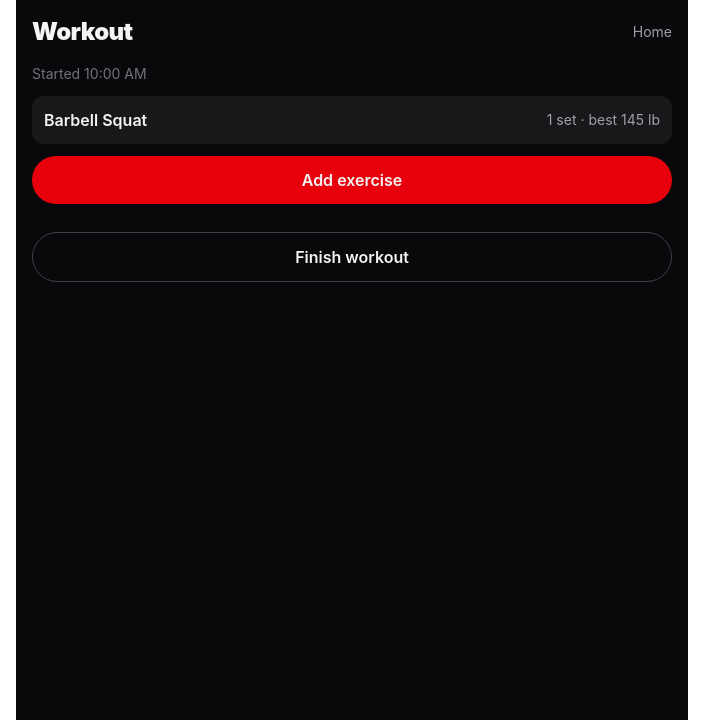
Test case: WorkoutPage › prefills from today's last set rather than the ghost row
Click the button "Barbell Squat 1 set · best 145 lb": (96, 120) [32,96,672,144]
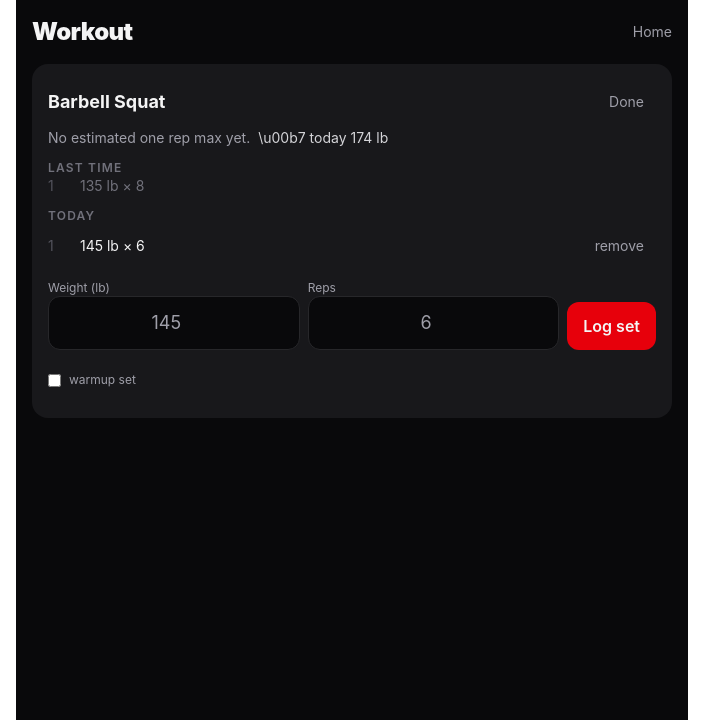
Check: the number field labelled "Weight (lb)" holds "145", box [48,296,300,350]
Check: the number field labelled "Reps" holds "6", box [308,296,559,350]
